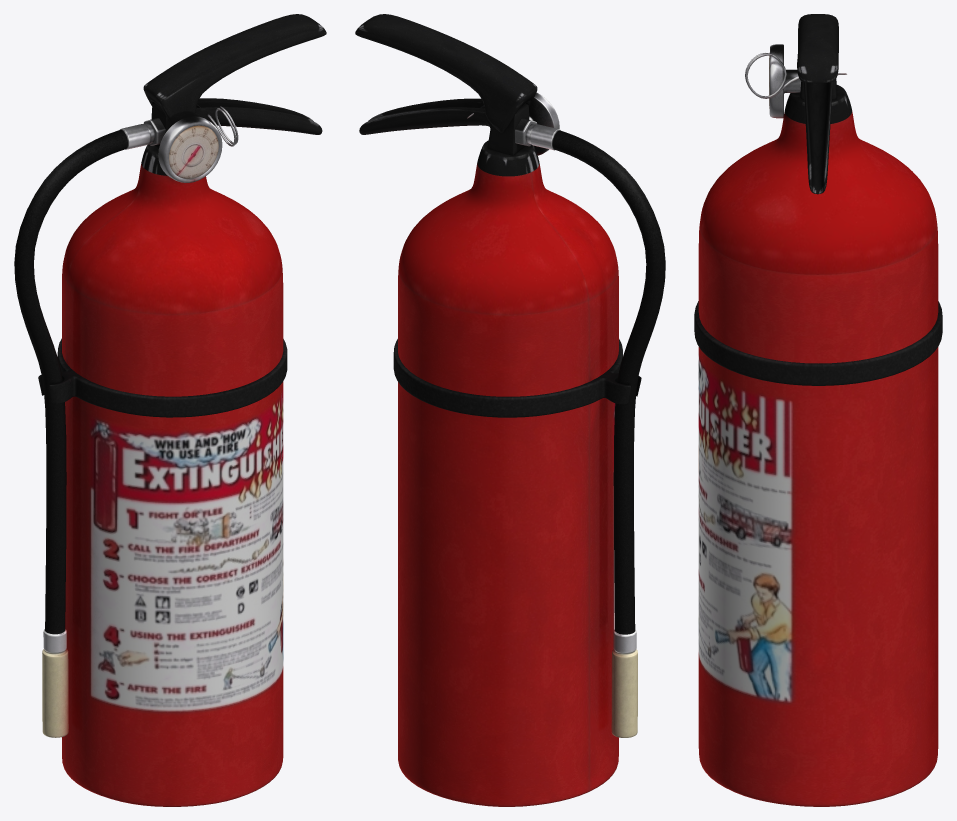
The model's file is extinguisher.glb.
The picture shows the model from 3 angles, left to right: view 1: azimuth 30°, elevation 25°; view 2: azimuth 150°, elevation 25°; view 3: azimuth 270°, elevation 25°; orthographic projection. The views are drawn at different scales.
Visible parts, largest first — view 1: 10285_Fire Extinguisher_v3_iterations-2_0; view 2: 10285_Fire Extinguisher_v3_iterations-2_0; view 3: 10285_Fire Extinguisher_v3_iterations-2_0.
Boxes of the visible parts, x1,y1,x2,y2 form: 10285_Fire Extinguisher_v3_iterations-2_0: (14, 14, 326, 806); 10285_Fire Extinguisher_v3_iterations-2_0: (355, 14, 665, 806); 10285_Fire Extinguisher_v3_iterations-2_0: (694, 14, 942, 806).
Bounding box in the file's own units: 0.2758 × 0.6158 × 0.1797.
Materials: 1 (1 with a texture image).
